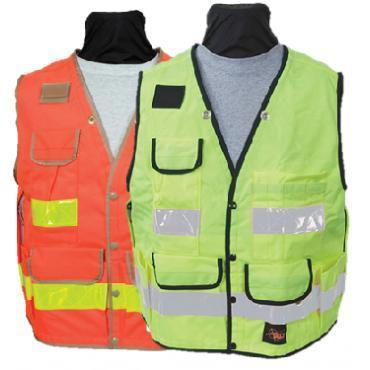vest: (126, 36, 348, 358), (12, 40, 173, 352)
